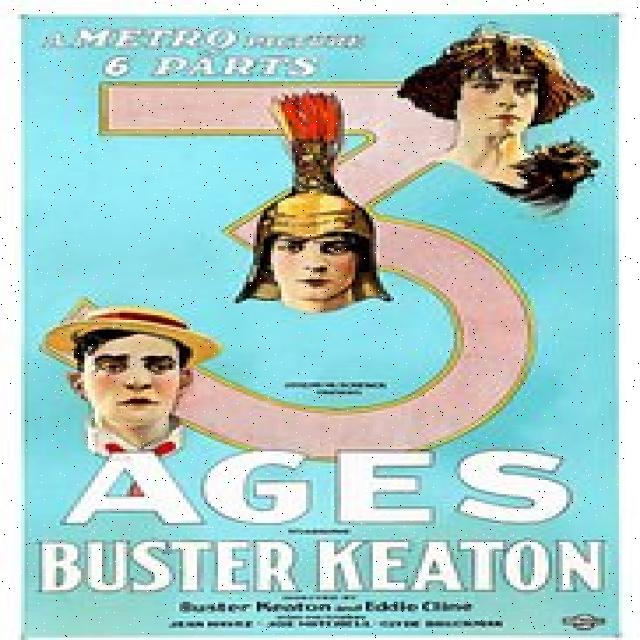movie-judul: (40, 448, 620, 600)
picture: (403, 24, 603, 207), (32, 301, 225, 457), (230, 149, 413, 312)
